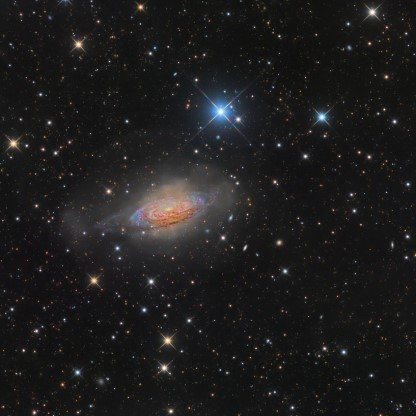NGC 3521: (54, 143, 258, 262)
